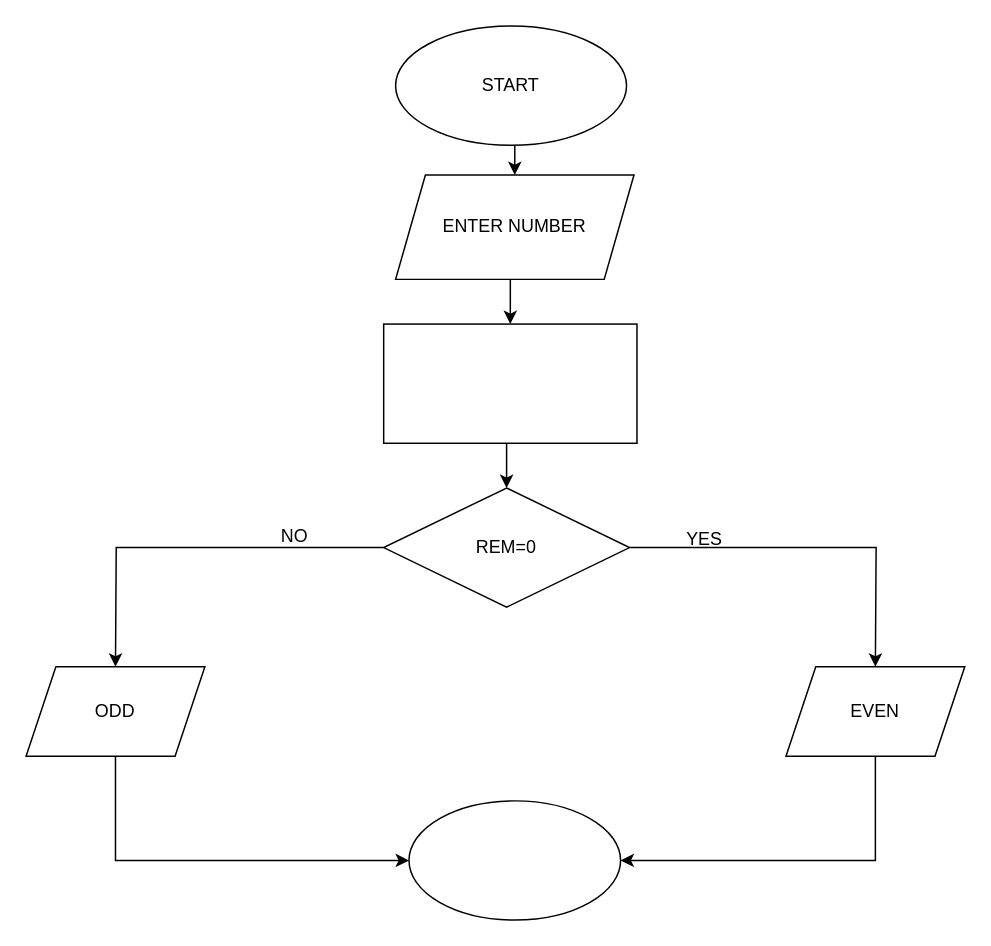
The diagram is 991 pixels wide and 946 high, and some of its shapes have lost their labels. Here are the shapes that lost their labels. From the top down, the centre of each, then its label:
the point at 509,383: REM=NUM%2
the point at 514,859: END
